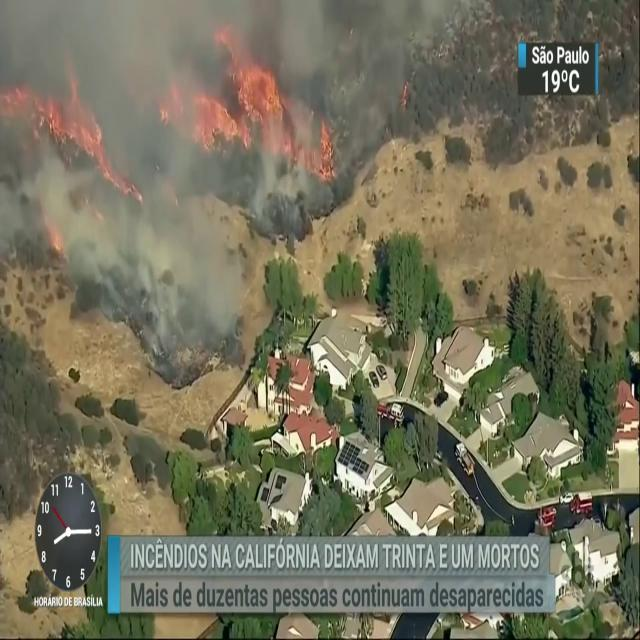Fire: (147, 7, 345, 185), (0, 53, 163, 208), (39, 186, 75, 256)
Smoke: (0, 0, 378, 176), (63, 178, 250, 358)
